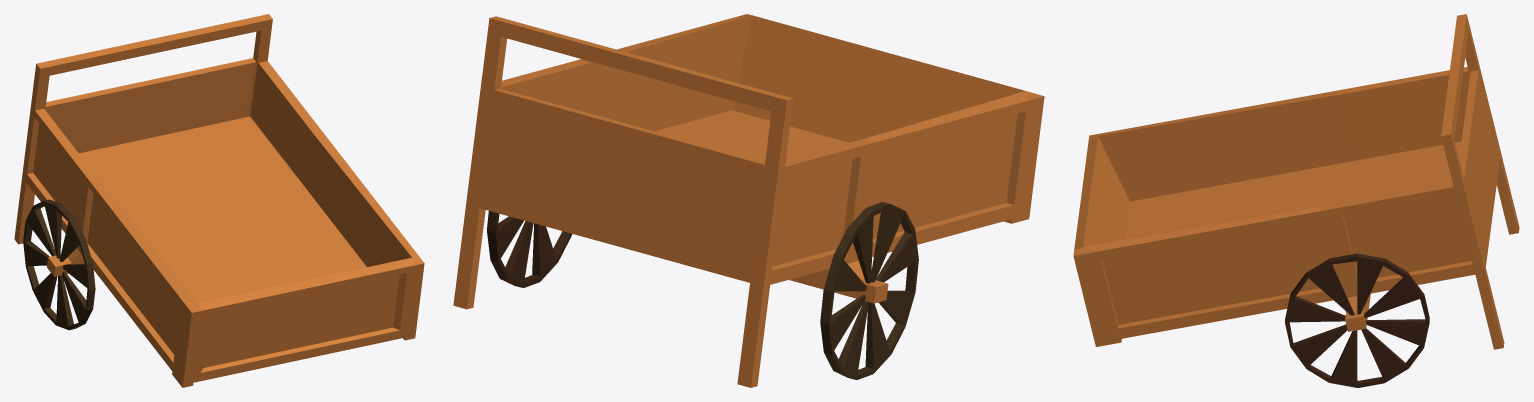
The model's file is Kariton.fbx.
The picture shows the model from 3 angles, left to right: view 1: azimuth 30°, elevation 25°; view 2: azimuth 150°, elevation 25°; view 3: azimuth 270°, elevation 25°; orthographic projection. The views are drawn at different scales.
Parts seen in each view (by area): view 1: Cube, Cylinder.000; view 2: Cube, Cylinder.000, Cylinder.002; view 3: Cube, Cylinder.002.
Boxes of the visible parts, x1=… form: Cube: x1=14, y1=14, x2=424, y2=387; Cylinder.000: x1=23, y1=199, x2=95, y2=330; Cube: x1=453, y1=14, x2=1044, y2=387; Cylinder.000: x1=820, y1=202, x2=918, y2=379; Cylinder.002: x1=487, y1=211, x2=572, y2=287; Cube: x1=1073, y1=14, x2=1519, y2=349; Cylinder.002: x1=1285, y1=253, x2=1429, y2=387.
Bounding box in the file's own units: 290 × 233 × 381.
